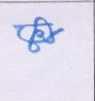i_matra: (37, 16, 62, 43)
